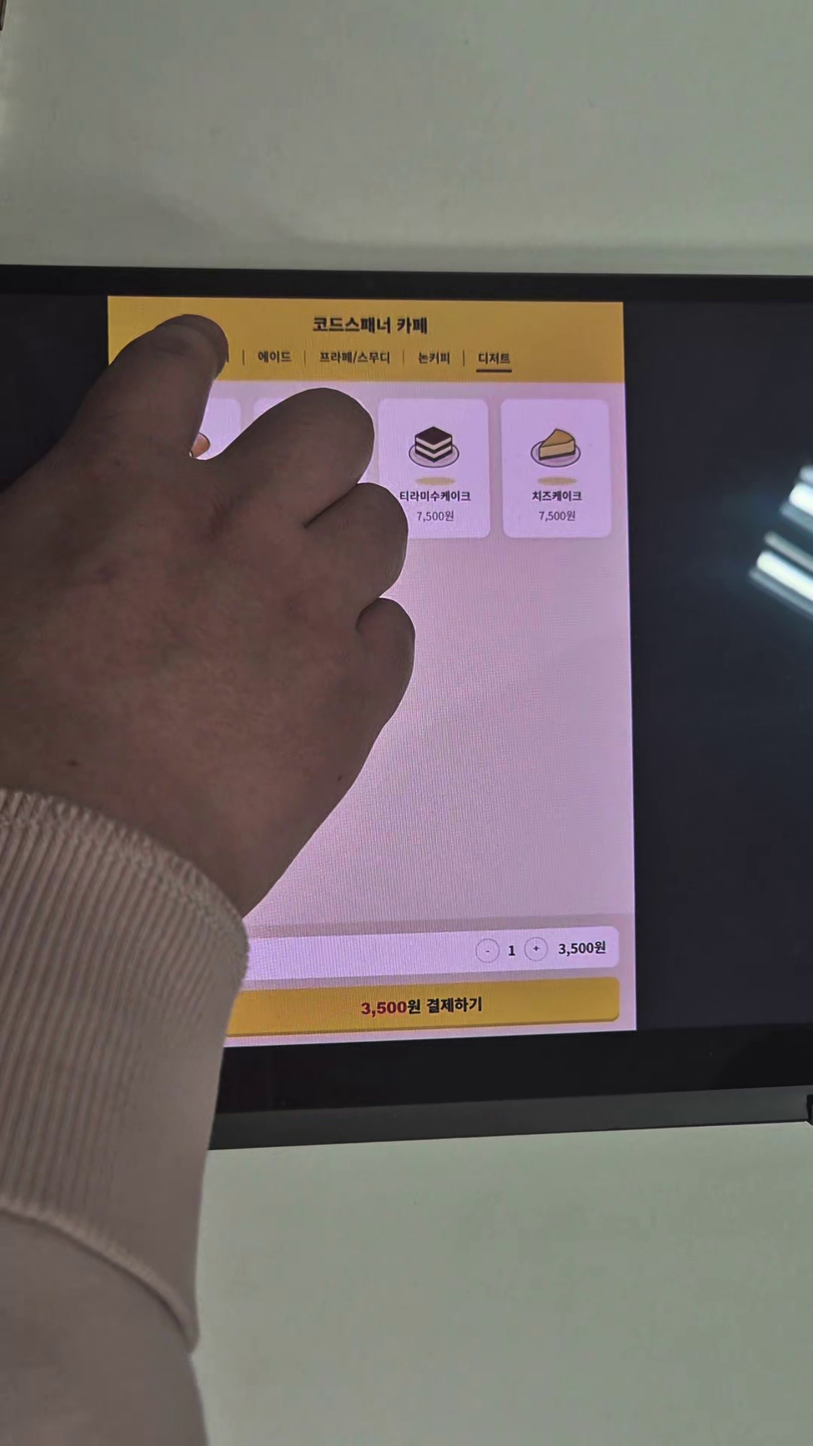action_button: (209, 977, 620, 1038)
cart_item: (39, 925, 617, 988)
category_tab: (319, 351, 391, 363), (417, 351, 451, 364), (477, 352, 511, 365), (257, 351, 290, 363)
menu_back: (376, 398, 489, 537), (500, 401, 612, 539)
menu_name: (399, 490, 471, 502), (531, 490, 581, 501)
menu_price: (538, 510, 576, 521), (416, 511, 454, 522)
